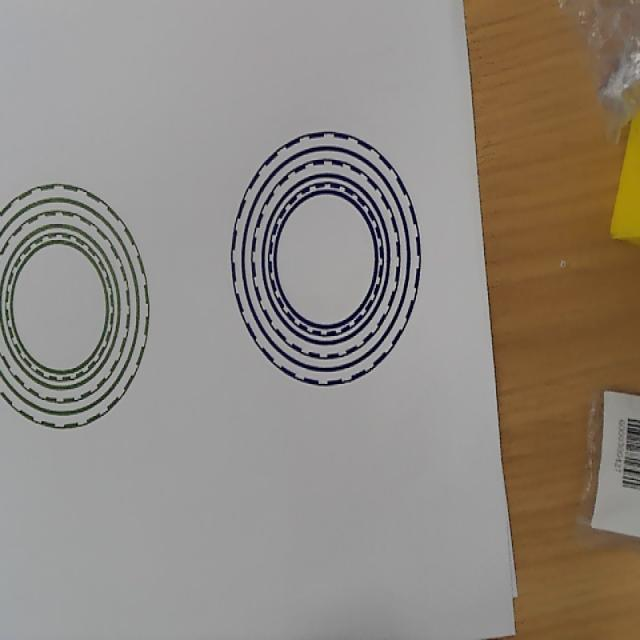b: (230, 129, 421, 387)
